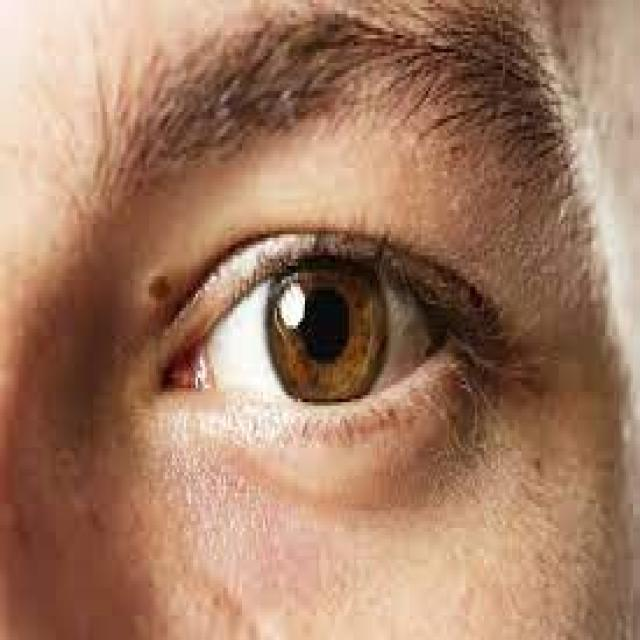Eyes-iris: (258, 248, 393, 411)
